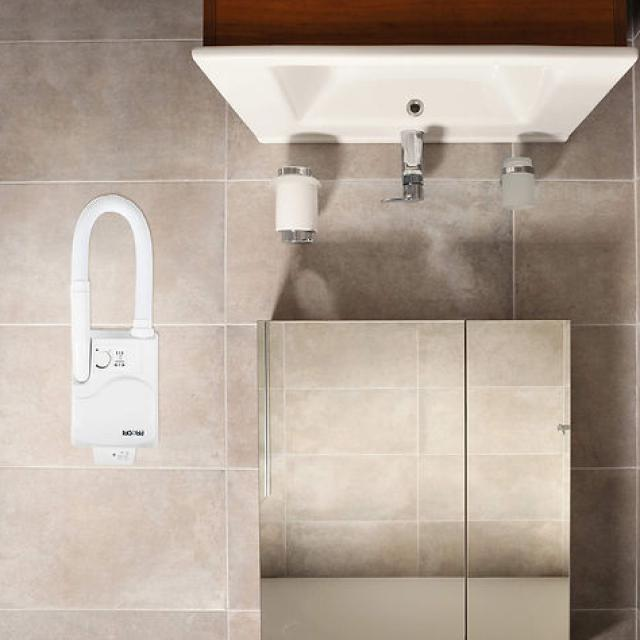dryer: (51, 184, 184, 479)
